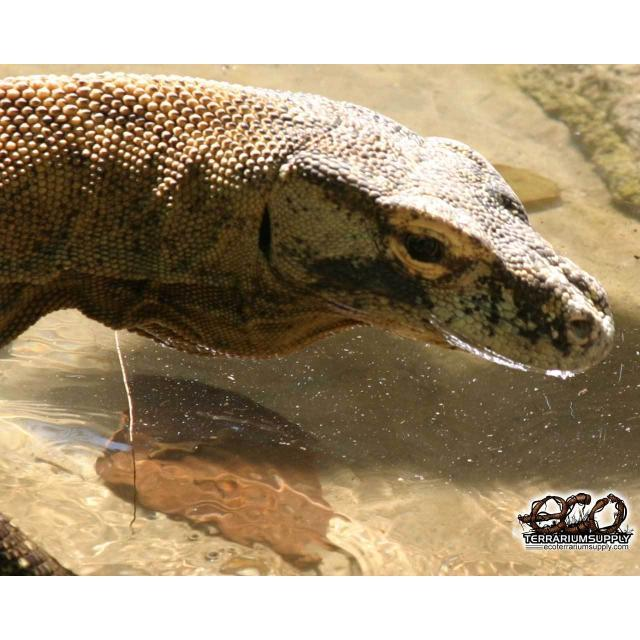KomodoDragon: (5, 73, 610, 379)
